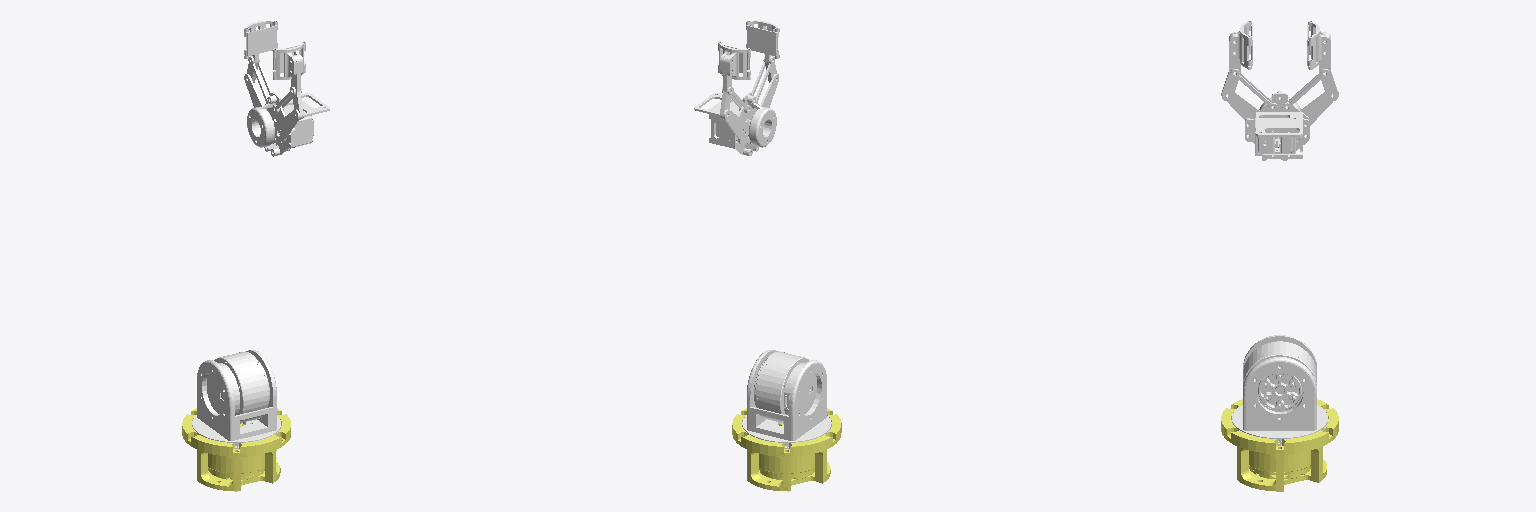
The robot description file, URDF, robot "robotarm305":
<?xml version="1.0" encoding="utf-8"?>
<!-- This URDF was automatically created by SolidWorks to URDF Exporter! Originally created by [author] ([email redacted]) 
     Commit Version: 1.6.0-4-g7f85cfe  Build Version: 1.6.7995.38578
     For more information, please see http://wiki.ros.org/sw_urdf_exporter -->
<robot
  name="robotarm305">
  <link
    name="Base">
    <inertial>
      <origin
        xyz="-7.0563E-06 -0.020678 -2.8727E-06"
        rpy="0 0 0" />
      <mass
        value="0.1646" />
      <inertia
        ixx="9.5863E-05"
        ixy="-4.287E-08"
        ixz="3.5756E-09"
        iyy="0.00014529"
        iyz="-4.9954E-10"
        izz="9.5864E-05" />
    </inertial>
    <visual>
      <origin
        xyz="0 0 0"
        rpy="0 0 0" />
      <geometry>
        <mesh
          filename="package://robotarm305/meshes/Base.STL" />
      </geometry>
      <material
        name="">
        <color
          rgba="1 1 0.50196 1" />
      </material>
    </visual>
    <collision>
      <origin
        xyz="0 0 0"
        rpy="0 0 0" />
      <geometry>
        <mesh
          filename="package://robotarm305/meshes/Base.STL" />
      </geometry>
    </collision>
  </link>
  <link
    name="Shoulder">
    <inertial>
      <origin
        xyz="-0.00099059 0.033999 -0.0016103"
        rpy="0 0 0" />
      <mass
        value="0.15467" />
      <inertia
        ixx="7.7379E-05"
        ixy="7.2803E-08"
        ixz="8.6271E-06"
        iyy="7.9774E-05"
        iyz="4.2917E-07"
        izz="8.8308E-05" />
    </inertial>
    <visual>
      <origin
        xyz="0 0 0"
        rpy="0 0 0" />
      <geometry>
        <mesh
          filename="package://robotarm305/meshes/Shoulder.STL" />
      </geometry>
      <material
        name="">
        <color
          rgba="1 1 1 1" />
      </material>
    </visual>
    <collision>
      <origin
        xyz="0 0 0"
        rpy="0 0 0" />
      <geometry>
        <mesh
          filename="package://robotarm305/meshes/Shoulder.STL" />
      </geometry>
    </collision>
  </link>
  <joint
    name="JointBase"
    type="revolute">
    <origin
      xyz="0 0 -0.0061"
      rpy="1.5708 0 -2.0763" />
    <parent
      link="Base" />
    <child
      link="Shoulder" />
    <axis
      xyz="0 -1 0" />
    <limit
      lower="-3.1416"
      upper="3.1416"
      effort="100"
      velocity="1" />
  </joint>
  <link
    name="ArmBottom">
    <inertial>
      <origin
        xyz="0.094217 0.023666 6.9959E-05"
        rpy="0 0 0" />
      <mass
        value="0.18907" />
      <inertia
        ixx="5.8788E-05"
        ixy="-1.3037E-05"
        ixz="4.9404E-09"
        iyy="0.00029199"
        iyz="-3.521E-08"
        izz="0.00028308" />
    </inertial>
    <visual>
      <origin
        xyz="0 0 0"
        rpy="0 0 0" />
      <geometry>
        <mesh
          filename="package://robotarm305/meshes/ArmBottom.STL" />
      </geometry>
      <material
        name="">
        <color
          rgba="1 1 1 1" />
      </material>
    </visual>
    <collision>
      <origin
        xyz="0 0 0"
        rpy="0 0 0" />
      <geometry>
        <mesh
          filename="package://robotarm305/meshes/ArmBottom.STL" />
      </geometry>
    </collision>
  </link>
  <joint
    name="JointShoulder"
    type="revolute">
    <origin
      xyz="-0.010216 0.041586 -0.018458"
      rpy="-1.0657 -4.6918E-05 1.5709" />
    <parent
      link="Shoulder" />
    <child
      link="ArmBottom" />
    <axis
      xyz="0 1 0" />
    <limit
      lower="-2.06"
      upper="2.06"
      effort="100"
      velocity="1" />
  </joint>
  <link
    name="ArmTop">
    <inertial>
      <origin
        xyz="0.094113 0.02399 -8.0082E-05"
        rpy="0 0 0" />
      <mass
        value="0.18907" />
      <inertia
        ixx="5.8788E-05"
        ixy="-1.3038E-05"
        ixz="4.9411E-09"
        iyy="0.00029199"
        iyz="3.5294E-08"
        izz="0.00028308" />
    </inertial>
    <visual>
      <origin
        xyz="0 0 0"
        rpy="0 0 0" />
      <geometry>
        <mesh
          filename="package://robotarm305/meshes/ArmTop.STL" />
      </geometry>
      <material
        name="">
        <color
          rgba="1 1 1 1" />
      </material>
    </visual>
    <collision>
      <origin
        xyz="0 0 0"
        rpy="0 0 0" />
      <geometry>
        <mesh
          filename="package://robotarm305/meshes/ArmTop.STL" />
      </geometry>
    </collision>
  </link>
  <joint
    name="JointElbow"
    type="revolute">
    <origin
      xyz="0.129 0.0054486 0"
      rpy="3.1416 -0.00036407 0" />
    <parent
      link="ArmBottom" />
    <child
      link="ArmTop" />
    <axis
      xyz="0 1 0" />
    <limit
      lower="-2.618"
      upper="2.618"
      effort="100"
      velocity="1" />
  </joint>
  <link
    name="Hand">
    <inertial>
      <origin
        xyz="-0.0074669 0.028784 0.19444"
        rpy="0 0 0" />
      <mass
        value="0.74698" />
      <inertia
        ixx="0.015163"
        ixy="0.0016912"
        ixz="0.00059805"
        iyy="0.010668"
        iyz="-0.0019466"
        izz="0.0061318" />
    </inertial>
    <visual>
      <origin
        xyz="0 0 0"
        rpy="0 0 0" />
      <geometry>
        <mesh
          filename="package://robotarm305/meshes/Hand.STL" />
      </geometry>
      <material
        name="">
        <color
          rgba="1 1 1 1" />
      </material>
    </visual>
    <collision>
      <origin
        xyz="0 0 0"
        rpy="0 0 0" />
      <geometry>
        <mesh
          filename="package://robotarm305/meshes/Hand.STL" />
      </geometry>
    </collision>
  </link>
  <joint
    name="JointWrist"
    type="revolute">
    <origin
      xyz="0.129 0.0060549 0"
      rpy="-3.1416 -1.5703 3.1416" />
    <parent
      link="ArmTop" />
    <child
      link="Hand" />
    <axis
      xyz="0 1 0" />
    <limit
      lower="-3.1416"
      upper="3.1416"
      effort="100"
      velocity="1" />
  </joint>
</robot>

--- What the picture shows (computed from the rendered views, not written in the file) ---
The picture shows the robot from 3 angles, left to right: view 1: azimuth 30°, elevation 25°; view 2: azimuth 150°, elevation 25°; view 3: azimuth 270°, elevation 25°; orthographic projection.
Model robotarm305 with 5 links and 4 joints (4 revolute), rooted at Base, posed every joint at zero.
Visible links, largest first — view 1: Shoulder, Hand, Base; view 2: Shoulder, Hand, Base; view 3: Shoulder, Hand, Base.
Link boxes in pixels (bbox=[...]): Shoulder: bbox=[192, 350, 281, 448]; Hand: bbox=[244, 20, 329, 156]; Base: bbox=[182, 408, 290, 491]; Shoulder: bbox=[742, 350, 831, 448]; Hand: bbox=[694, 20, 779, 155]; Base: bbox=[732, 408, 841, 491]; Shoulder: bbox=[1231, 335, 1328, 445]; Hand: bbox=[1221, 20, 1338, 160]; Base: bbox=[1221, 399, 1338, 491].
Bounding box of the posed robot: 0.1376 × 0.1 × 0.4322 m (x, y, z).
Meshes: 5 distinct files referenced, 3 mesh visuals loaded (3 binary STL); not drawn: 2 (reference not matched to a file when rendering).